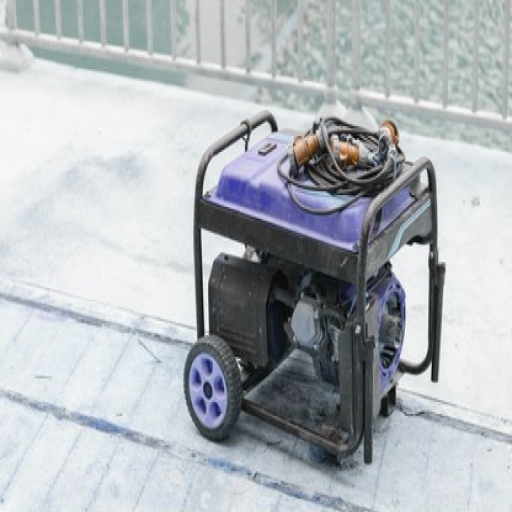portable_generator: (195, 110, 442, 451)
